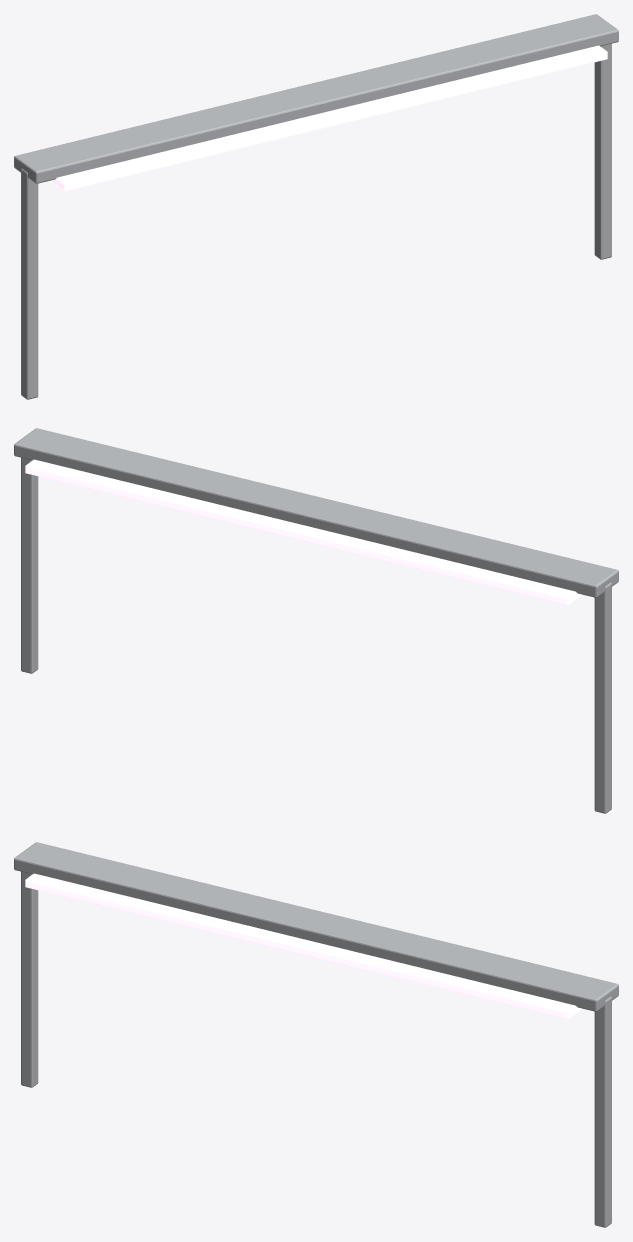
File: грядка3.glb
The picture shows the model from 3 angles, top to bottom: view 1: azimuth 30°, elevation 25°; view 2: azimuth 150°, elevation 25°; view 3: azimuth 330°, elevation 25°; orthographic projection.
Parts seen in each view (by area): view 1: Lamp_Mesh; view 2: Lamp_Mesh; view 3: Lamp_Mesh.
Boxes of the visible parts, <box> form: Lamp_Mesh: <box>14,14,618,399</box>; Lamp_Mesh: <box>14,428,618,813</box>; Lamp_Mesh: <box>14,842,618,1227</box>.
Bounding box in the file's own units: 5.92 × 2.26 × 0.7.
